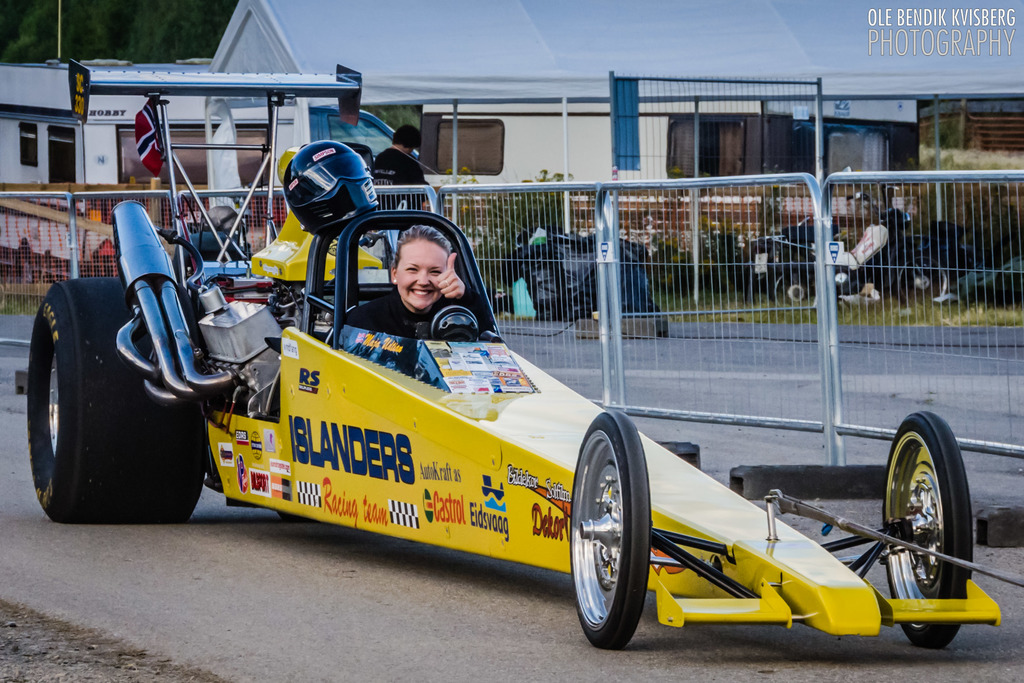cars: (0, 56, 1009, 657)
